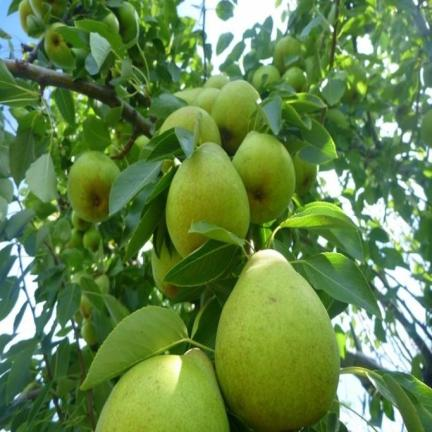pear: (216, 250, 339, 431), (96, 349, 229, 431), (166, 143, 249, 257), (233, 131, 295, 223), (68, 151, 120, 221), (212, 80, 259, 155), (160, 106, 221, 145), (151, 242, 181, 297), (44, 22, 75, 70), (340, 56, 368, 106), (293, 153, 318, 196), (274, 35, 301, 74), (114, 2, 139, 43), (19, 0, 43, 37), (192, 88, 220, 114), (252, 65, 280, 91), (30, 0, 67, 18), (283, 66, 307, 92), (113, 121, 133, 151), (173, 87, 203, 105), (83, 225, 102, 252), (19, 0, 34, 33), (81, 317, 98, 346), (71, 211, 91, 232), (420, 108, 431, 145), (102, 10, 119, 33), (204, 74, 229, 89), (80, 293, 94, 318), (67, 228, 83, 248), (95, 274, 110, 294), (71, 271, 92, 285), (422, 61, 431, 86), (135, 135, 149, 151)
